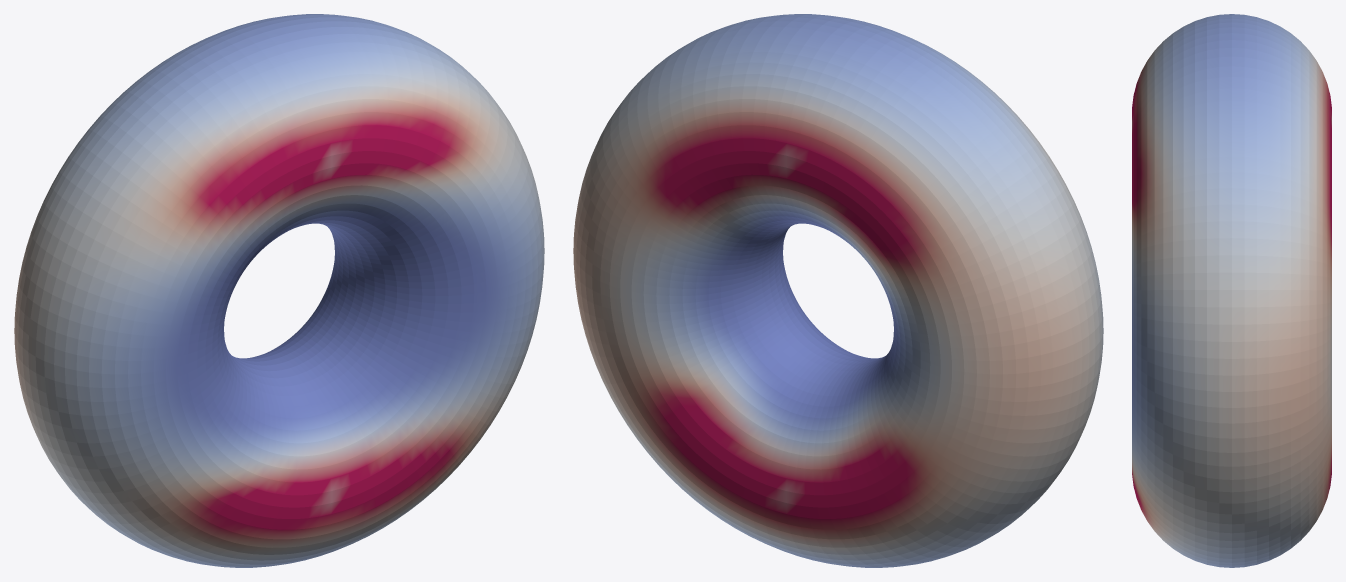
3 renders of one model, left to right at view 1: azimuth 30°, elevation 25°; view 2: azimuth 150°, elevation 25°; view 3: azimuth 270°, elevation 25°, orthographic. The views are drawn at different scales.
Parts seen in each view (by area): view 1: world; view 2: world; view 3: world.
Boxes of the visible parts, x1,y1,x2,y2 form: world: (14,14,544,567); world: (573,14,1103,567); world: (1132,14,1331,567).
Size of the model in its own units: 18.8 by 18.8 by 6.79.
